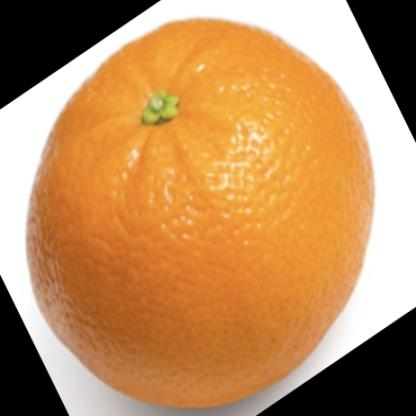fresh: (29, 19, 376, 412)
